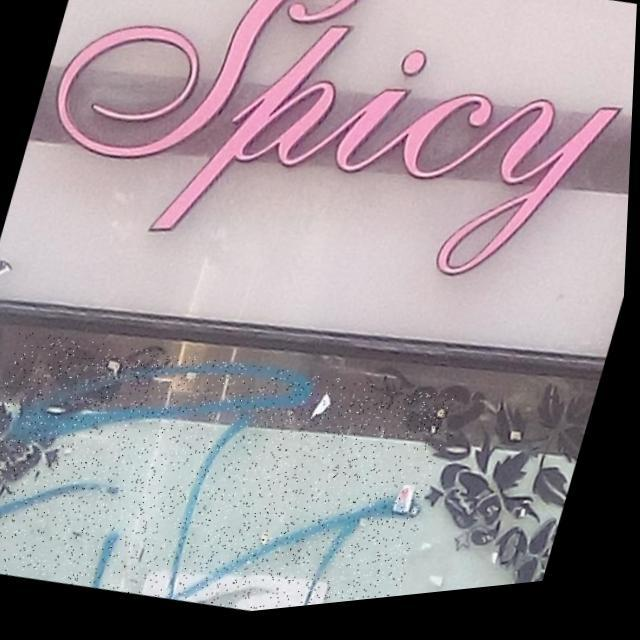-: (0, 295, 463, 640)
